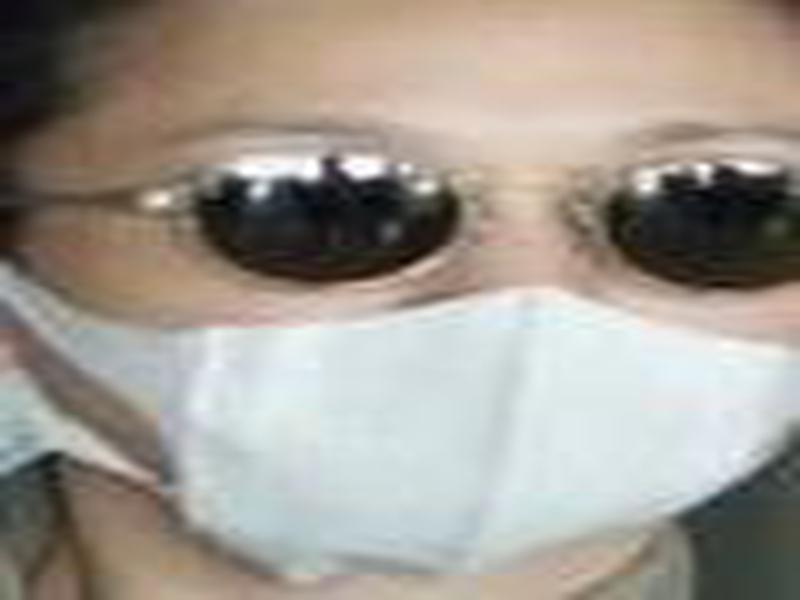with_mask: (5, 3, 798, 582)
